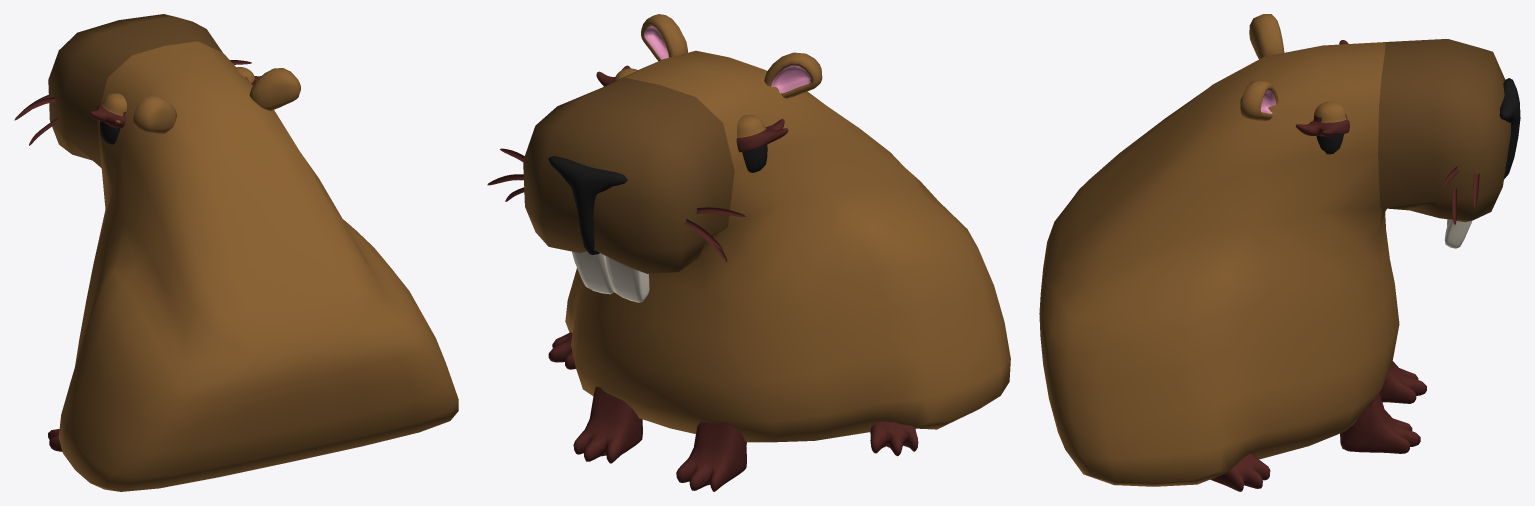
The model's file is capybara.glb.
3 renders of one model, left to right at view 1: azimuth 30°, elevation 25°; view 2: azimuth 150°, elevation 25°; view 3: azimuth 270°, elevation 25°, orthographic. The views are drawn at different scales.
Parts seen in each view (by area): view 1: corpo, orelha, Cube.002, bigodes; view 2: corpo, patasFrente, orelha, object 11, dentes, patasTras, Cube.002, bigodes; view 3: corpo, patasFrente, orelha, Cube.004, patasTras, object 11, dentes.
Part boxes in pixels (x1,y1,x2,y2): corpo: (48, 14, 458, 491); orelha: (133, 68, 300, 133); Cube.002: (90, 93, 126, 128); bigodes: (14, 60, 251, 145); corpo: (523, 50, 1010, 442); patasFrente: (573, 386, 746, 491); orelha: (641, 14, 822, 98); object 11: (548, 156, 627, 254); dentes: (572, 251, 649, 302); patasTras: (548, 332, 918, 456); Cube.002: (736, 115, 788, 152); bigodes: (487, 148, 745, 262); corpo: (1039, 39, 1510, 486); patasFrente: (1340, 361, 1426, 453); orelha: (1240, 14, 1284, 120); Cube.004: (1295, 101, 1349, 136); patasTras: (1210, 454, 1270, 491); object 11: (1499, 78, 1520, 179); dentes: (1444, 219, 1471, 248).
Bounding box in the file's own units: 0.0216 × 0.0198 × 0.0233.
7 materials, 5 textured.
